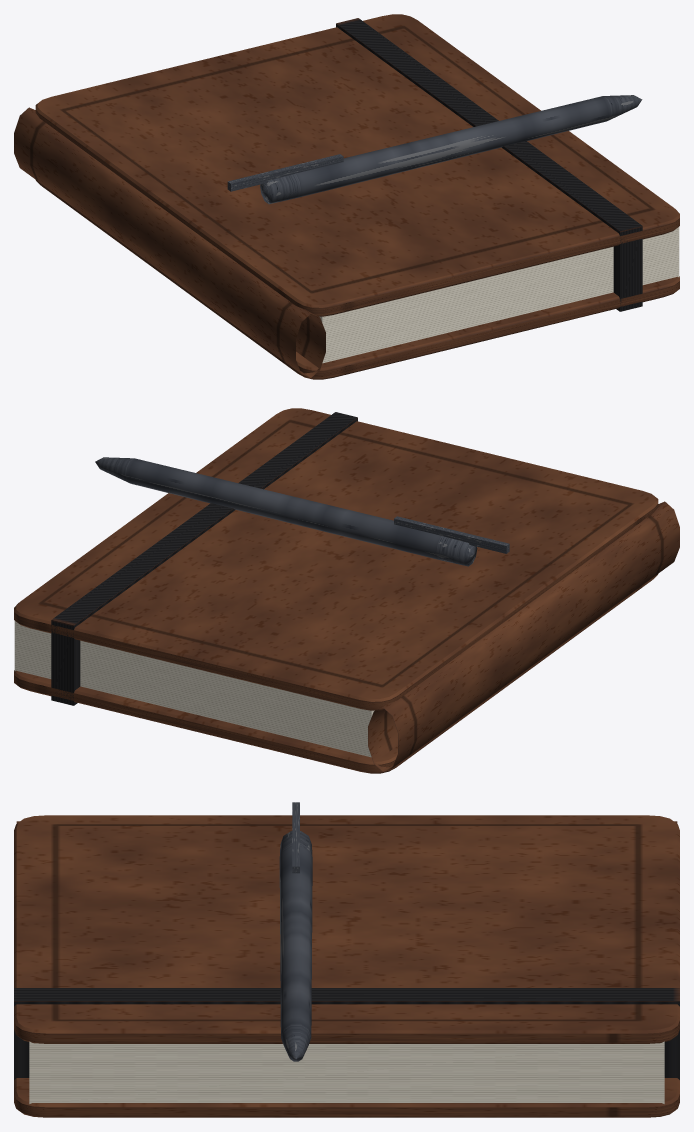
Rendered from notebook.obj.
3 renders of one model, top to bottom at view 1: azimuth 30°, elevation 25°; view 2: azimuth 150°, elevation 25°; view 3: azimuth 270°, elevation 25°, orthographic. The views are drawn at different scales.
Parts seen in each view (by area): view 1: notebook_0_surface, notebook_1_surface; view 2: notebook_0_surface, notebook_1_surface; view 3: notebook_0_surface, notebook_1_surface.
Boxes of the visible parts, <box> form: notebook_0_surface: <box>14,14,679,379</box>; notebook_1_surface: <box>227,95,642,204</box>; notebook_0_surface: <box>14,408,679,773</box>; notebook_1_surface: <box>95,457,509,566</box>; notebook_0_surface: <box>14,815,679,1117</box>; notebook_1_surface: <box>279,802,312,1061</box>.
Size of the model in its own units: 0.248 by 0.0545 by 0.262.
2 materials, 2 textured.
